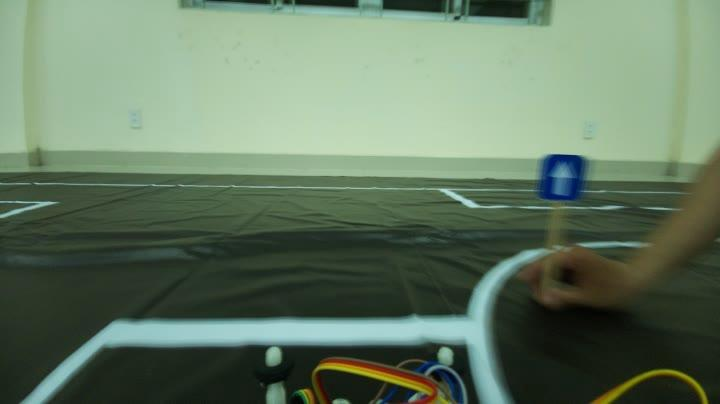onewayroad: (529, 151, 591, 205)
